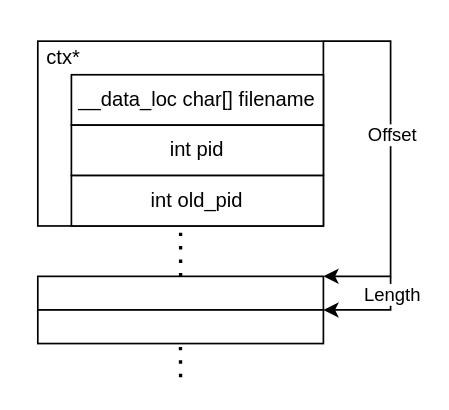
This 449x410 diagram has some shape labels left out. Each missing label, with the centre of its shape:
"More stack data" belongs at (179,326).
"Variable data" belongs at (179,292).
